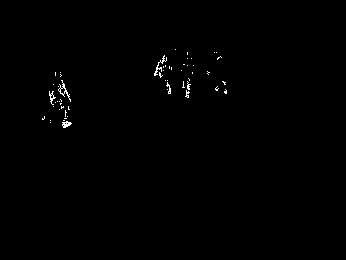person: (50, 69, 73, 128), (154, 53, 173, 93)
